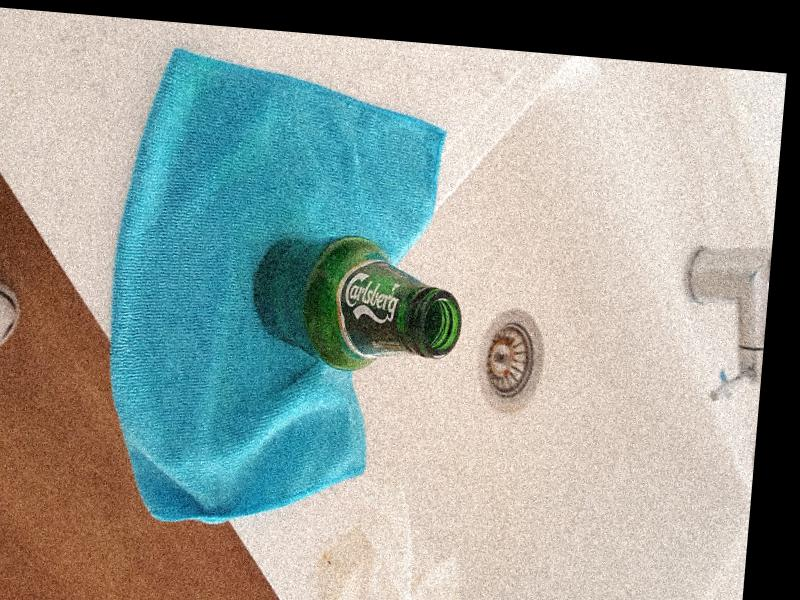Beer: (245, 233, 465, 380)
